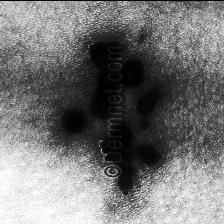Toxin: (126, 46, 170, 186), (52, 42, 104, 142)
